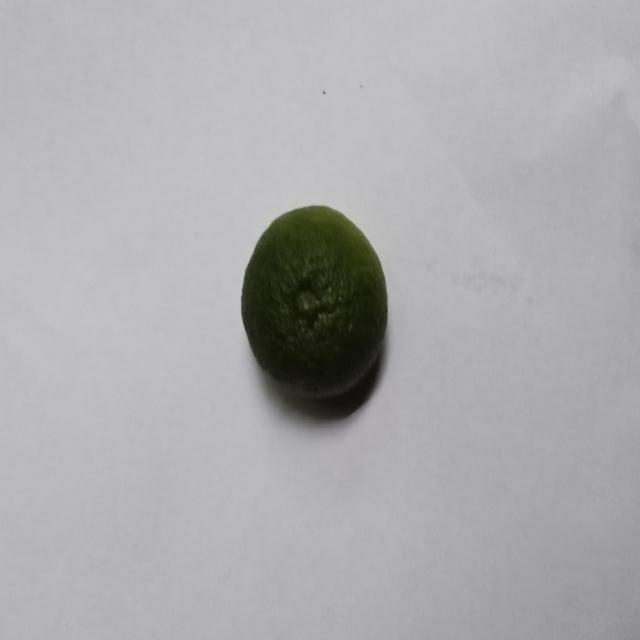heathy: (240, 200, 390, 410)
